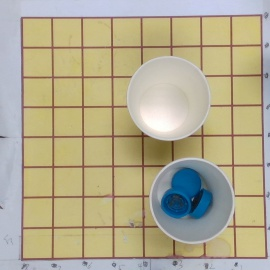cup: (124, 54, 211, 143)
cup_blue: (151, 158, 237, 244)
